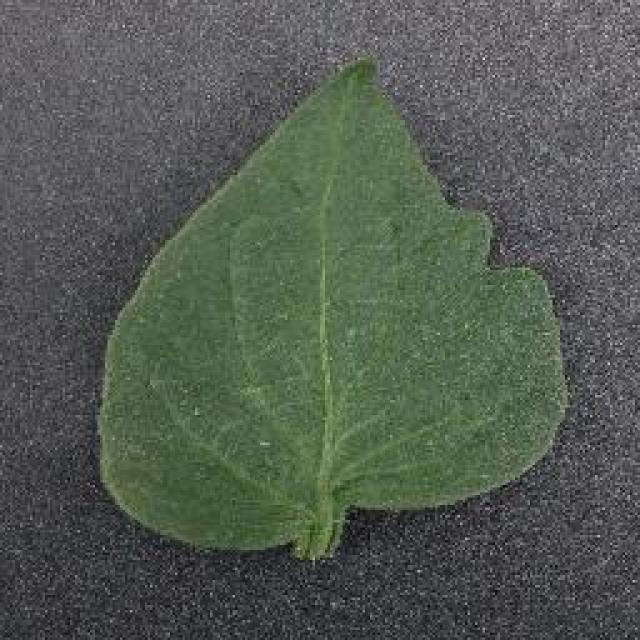Tomato_Healthy: (75, 42, 586, 561)
